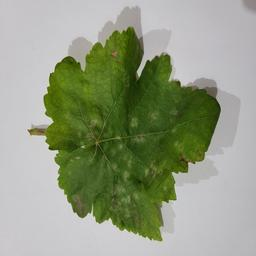Powdery-Mildew: (109, 177, 143, 216)
